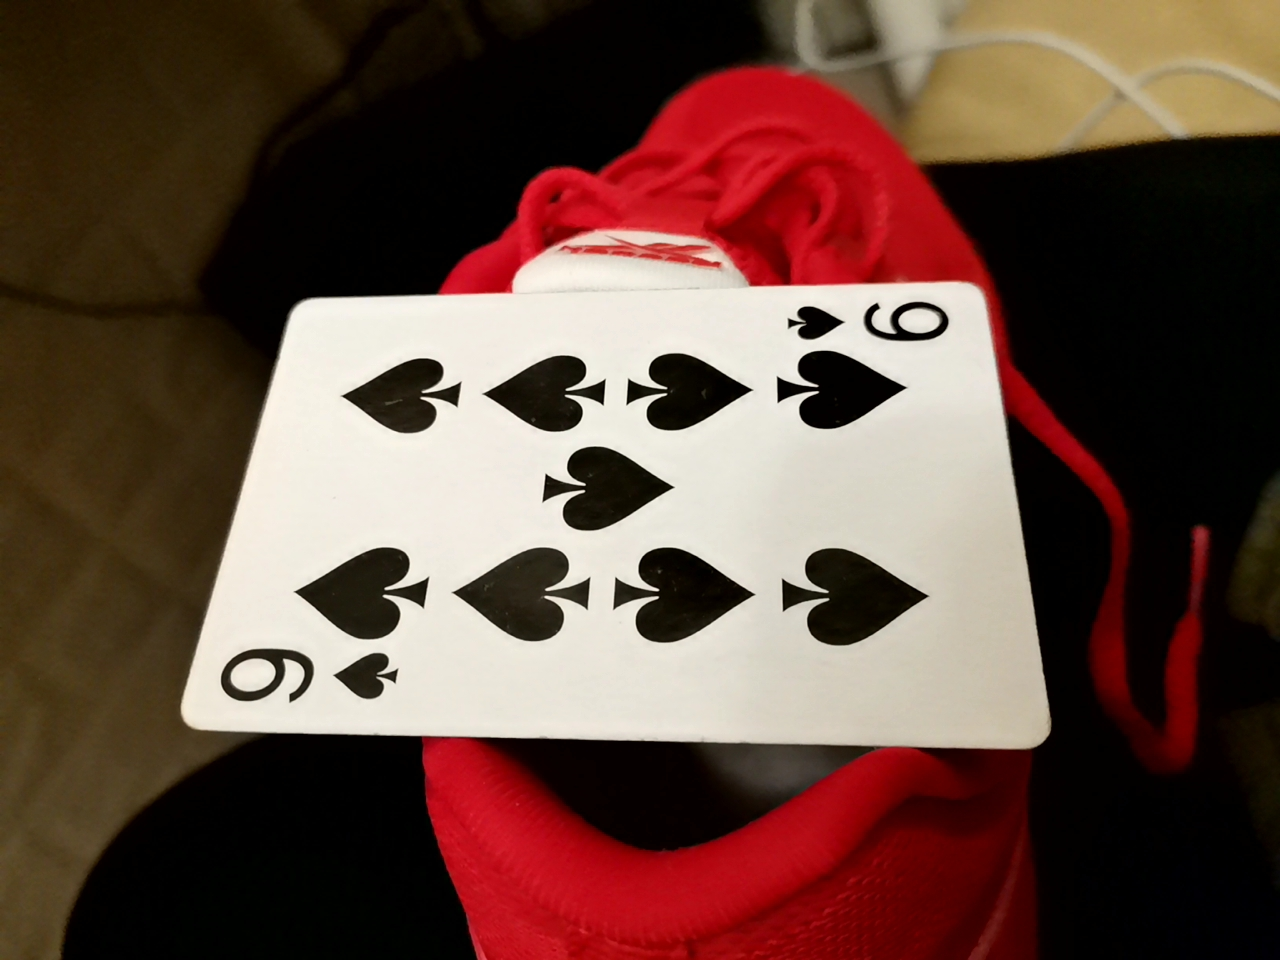ht 9: (187, 274, 1071, 749)
